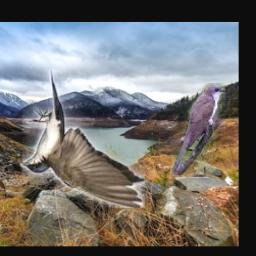Cuckoo: (170, 84, 225, 176)
Swallow: (22, 69, 145, 208)
